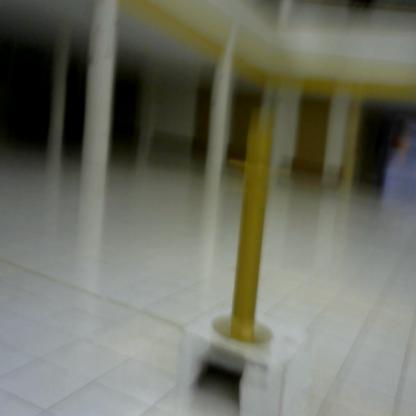pole: (219, 111, 302, 356)
